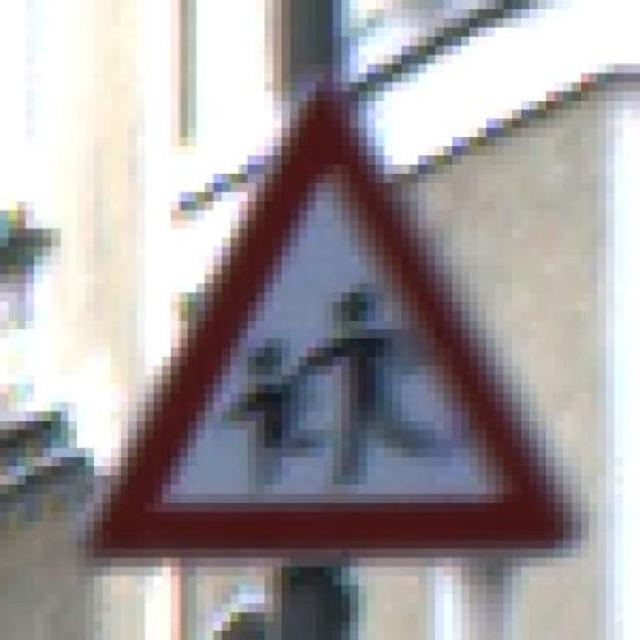Beware of children: (68, 64, 598, 567)
